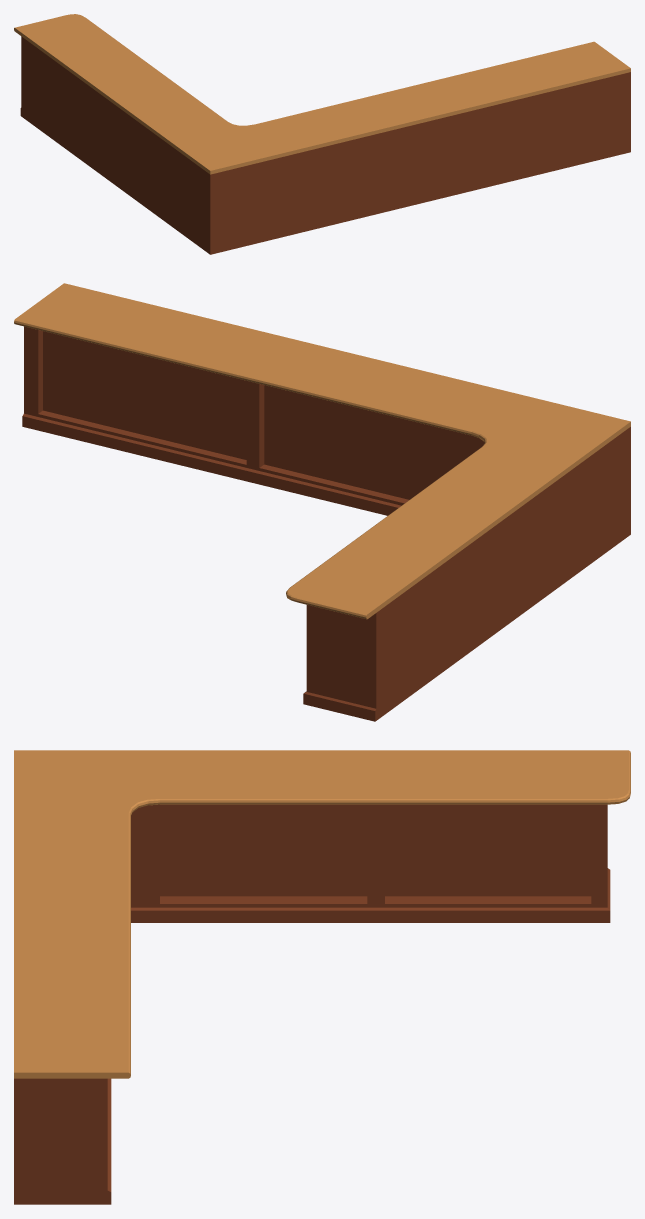
Rendered from Restaurant_Mesada_NoTextures.fbx.
3 renders of one model, top to bottom at view 1: azimuth 30°, elevation 25°; view 2: azimuth 150°, elevation 25°; view 3: azimuth 270°, elevation 25°, orthographic. The views are drawn at different scales.
Visible parts, largest first — view 1: m_Mesada_01; view 2: m_Mesada_01; view 3: m_Mesada_01.
Part boxes in pixels (x1,y1,x2,y2): m_Mesada_01: (14,14,630,254); m_Mesada_01: (14,283,630,721); m_Mesada_01: (14,750,630,1204).
Size of the model in its own units: 1098 by 209 by 887.
